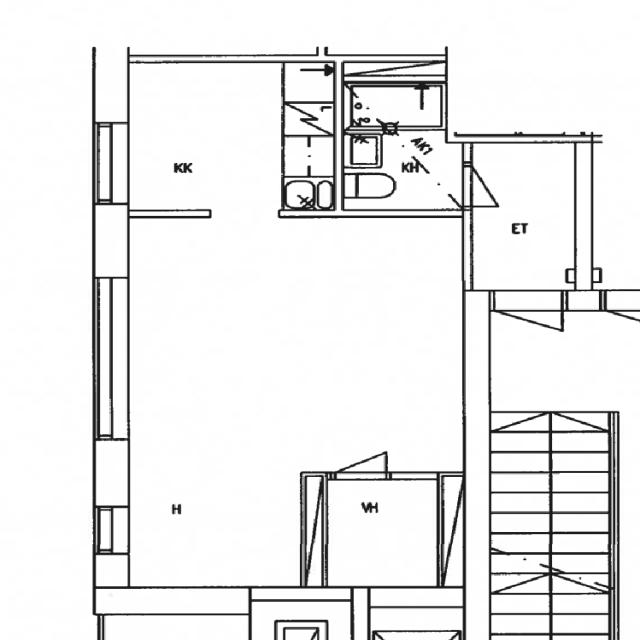door: (468, 162, 504, 211), (339, 448, 394, 478)
window: (88, 276, 130, 441), (88, 122, 129, 206), (92, 501, 134, 554)
zone: (122, 204, 456, 588), (128, 60, 338, 210), (469, 141, 576, 293), (312, 474, 447, 589), (344, 130, 463, 212), (345, 82, 445, 131), (97, 612, 253, 640)
